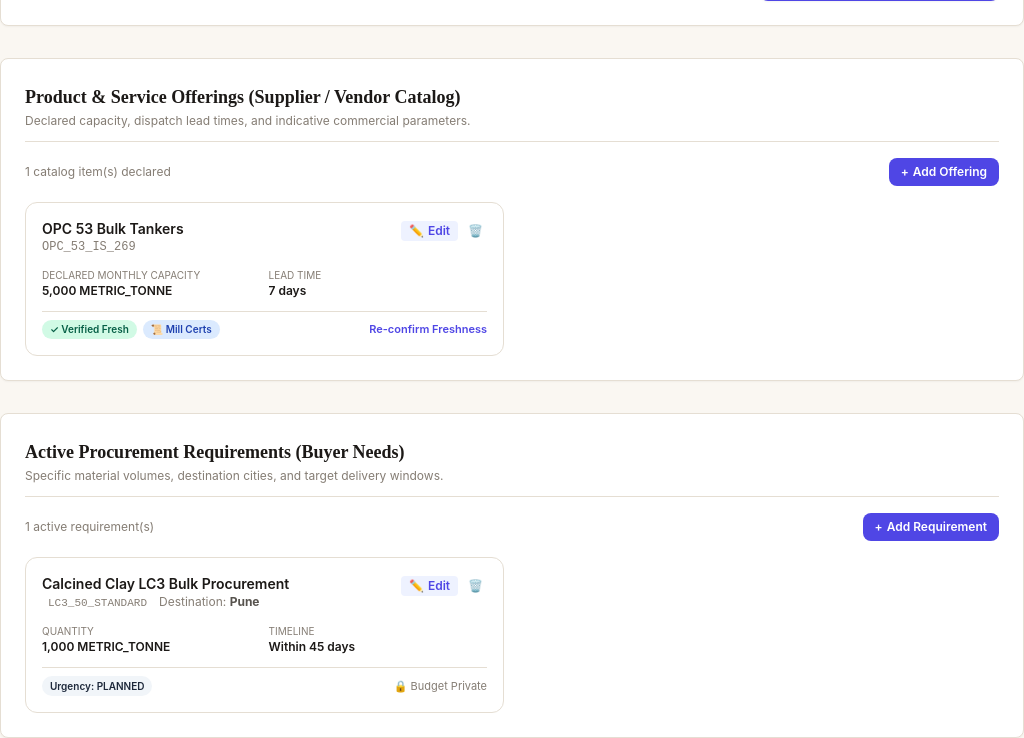
Test: BusinessProfileSection Component › allows in-place editing of an existing procurement requirement
Later steps or results of the test are not shown.
(page scrolled)
// Click Edit on requirement card
Click the button titled "Edit requirement" next to "Calcined Clay LC3 Bulk Procurement" at [429, 586], box [401, 576, 458, 596]
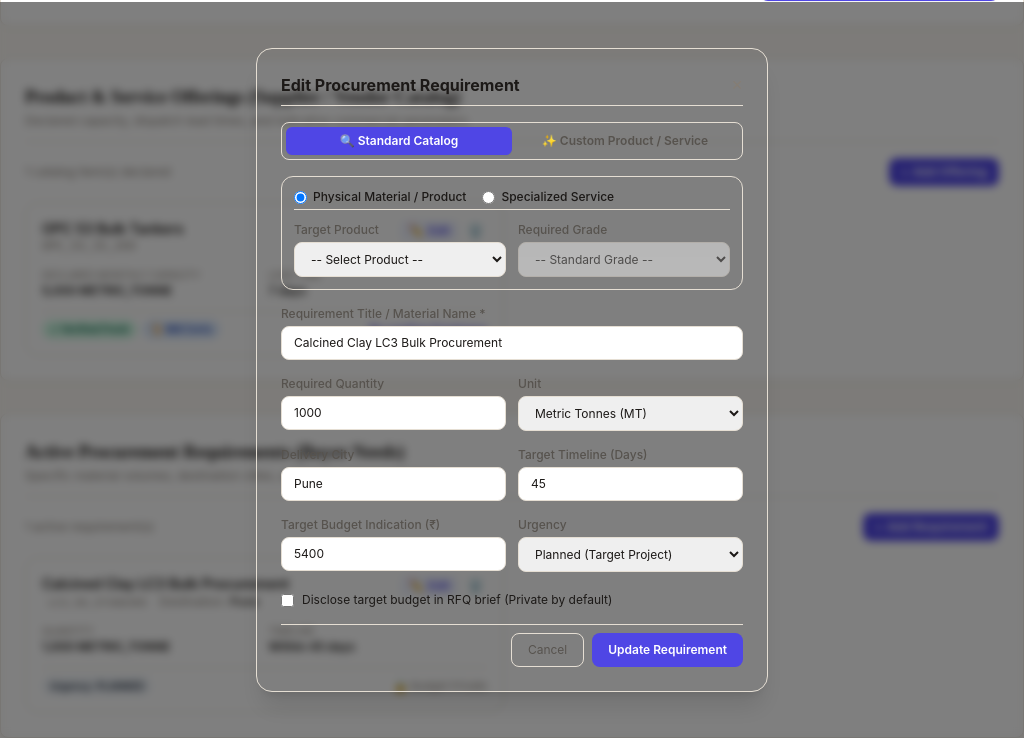
expect the heading "Edit Procurement Requirement" is shown: met, box [281, 73, 520, 97]
